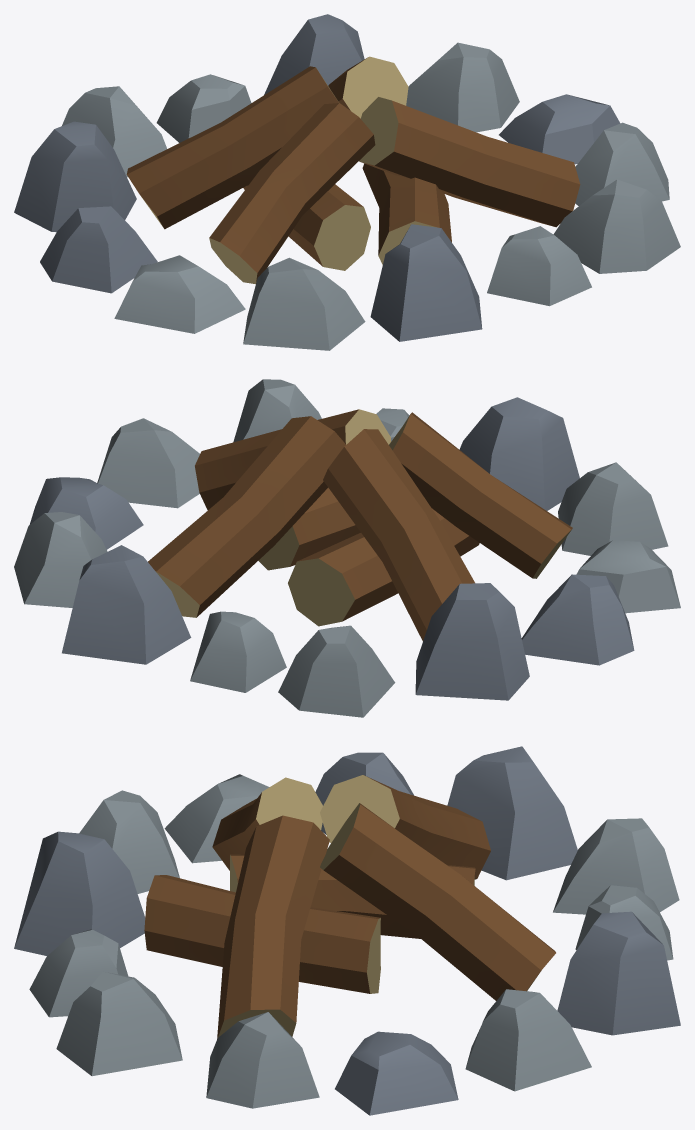
File: Bonfire.glb
3 renders of one model, top to bottom at view 1: azimuth 30°, elevation 25°; view 2: azimuth 150°, elevation 25°; view 3: azimuth 270°, elevation 25°, orthographic. The views are drawn at different scales.
Visible parts, largest first — view 1: Bonfire; view 2: Bonfire; view 3: Bonfire.
Boxes of the visible parts, x1,y1,x2,y2 form: Bonfire: [14, 14, 680, 350]; Bonfire: [14, 379, 680, 717]; Bonfire: [14, 746, 680, 1115].
Size of the model in its own units: 0.4066 by 0.1122 by 0.3624.
